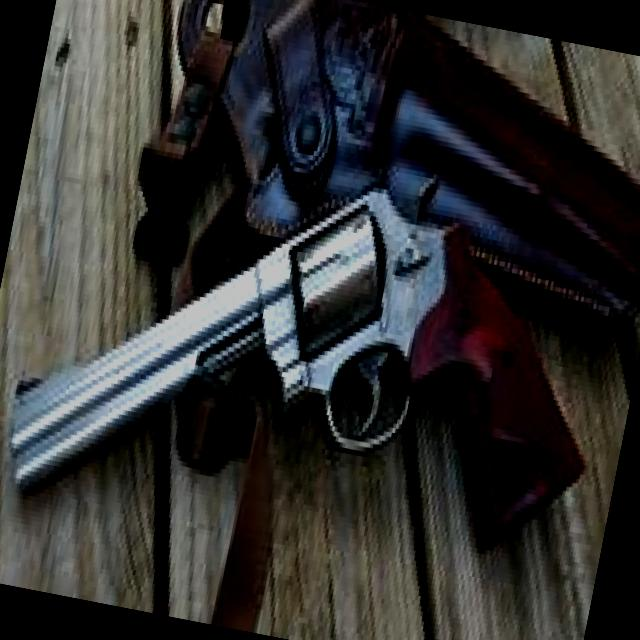revolver: (0, 55, 640, 640)
